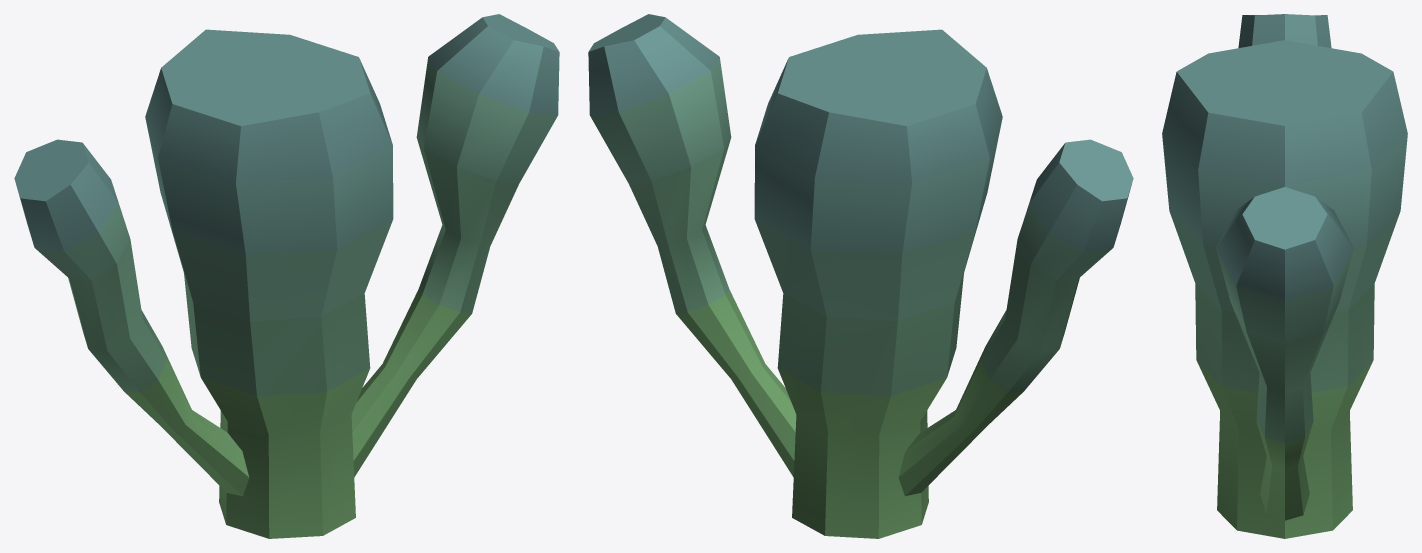
The model's file is Coral02.fbx.
3 views of the same model, side by side, from view 1: azimuth 30°, elevation 25°; view 2: azimuth 150°, elevation 25°; view 3: azimuth 270°, elevation 25° (orthographic). The views are drawn at different scales.
Parts seen in each view (by area): view 1: Coral03; view 2: Coral03; view 3: Coral03.
Boxes of the visible parts, <box> form: Coral03: <box>14,14,559,538</box>; Coral03: <box>588,14,1133,538</box>; Coral03: <box>1162,14,1407,538</box>.
Bounding box in the file's own units: 48.9 × 39 × 20.35.
